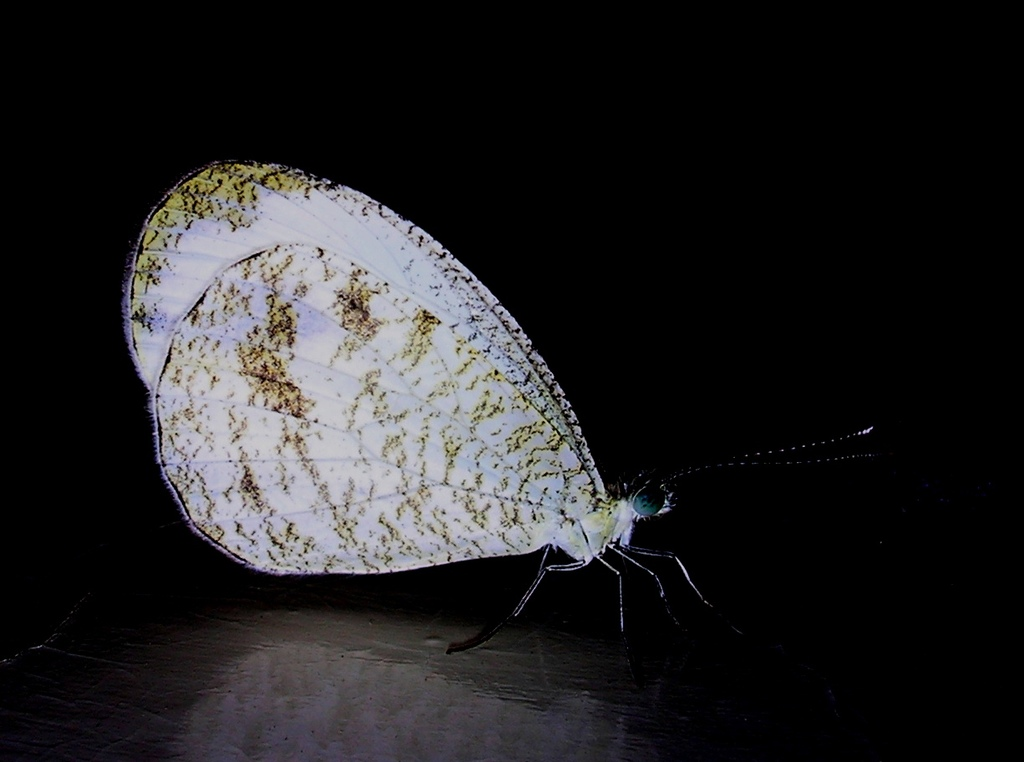Butterfly: (112, 162, 741, 659)
